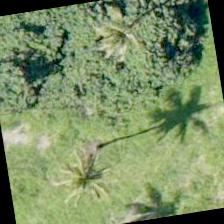Kelapa_Sawit: (46, 97, 149, 200), (78, 0, 179, 75)
